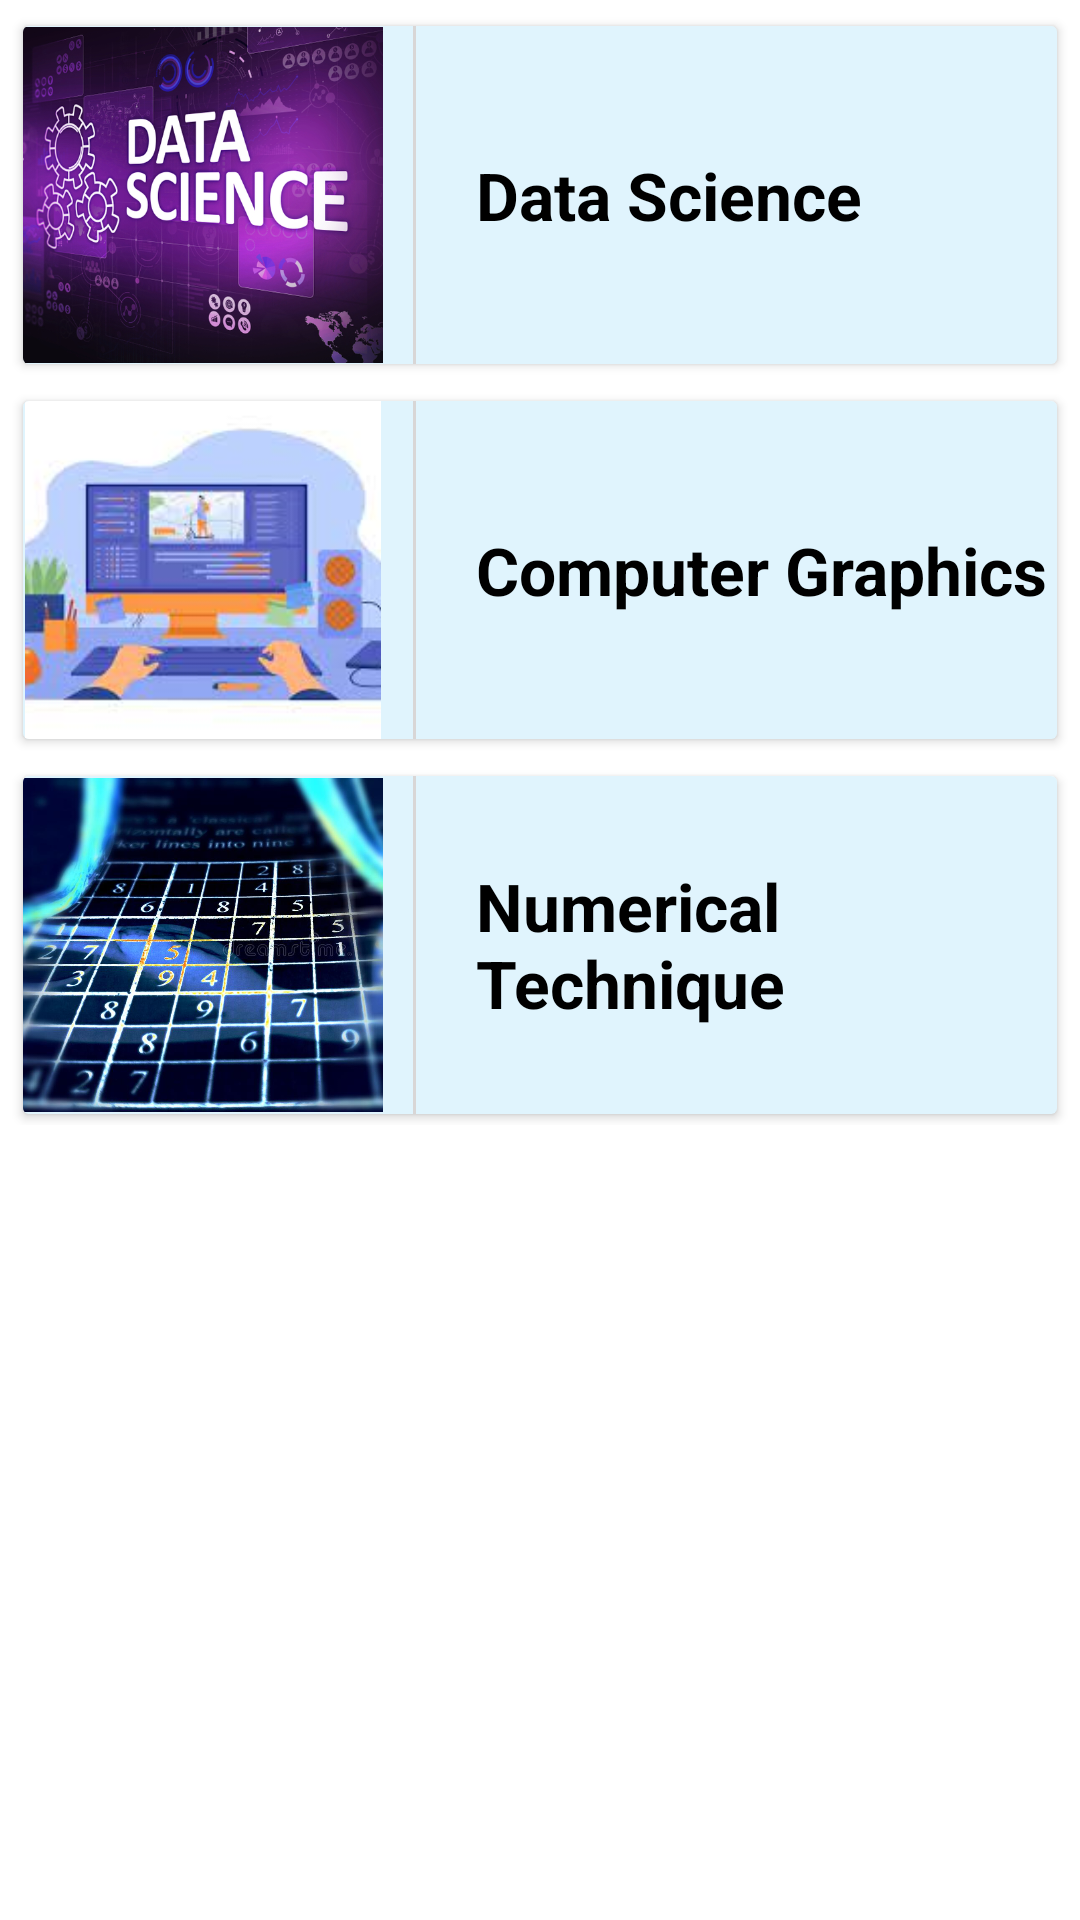

Icon bounding boxes for this 1080px×1920px phone screenshot, format (x1, y1, x2, y2):
compgraphics: (25, 429, 381, 701)
numericsys: (23, 778, 383, 1114)
